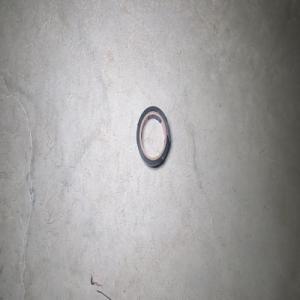Tape: (136, 106, 170, 167)
